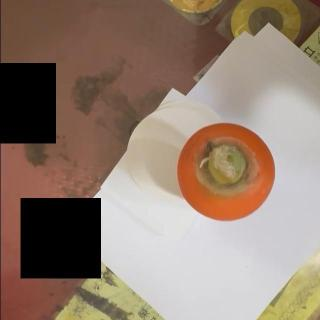carrot: (176, 123, 276, 223)
